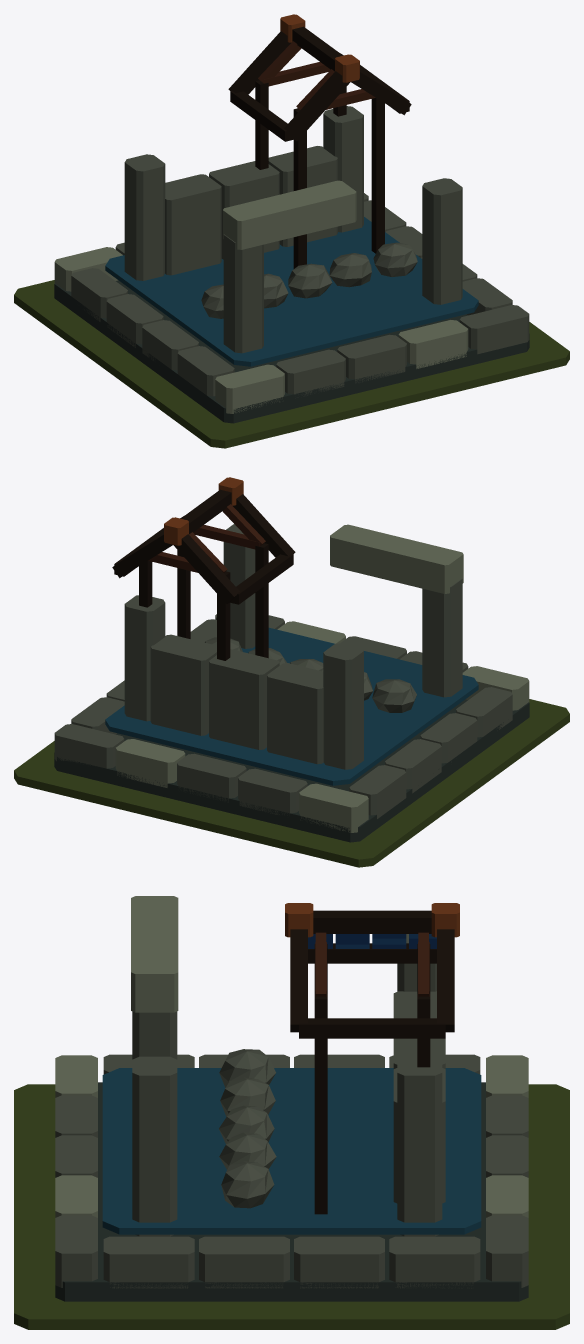
File: sunken-chapel_t4.glb
3 views of the same model, one above another, from view 1: azimuth 30°, elevation 25°; view 2: azimuth 150°, elevation 25°; view 3: azimuth 270°, elevation 25° (orthographic). The views are drawn at different scales.
Visible parts, largest first — view 1: MMR | sunken-chapel | T04 Architecture.001, MMR | sunken-chapel | Tier 04 Ground.001; view 2: MMR | sunken-chapel | T04 Architecture.001, MMR | sunken-chapel | Tier 04 Ground.001; view 3: MMR | sunken-chapel | T04 Architecture.001, MMR | sunken-chapel | Tier 04 Ground.001.
Part boxes in pixels (bbox=[...]): MMR | sunken-chapel | T04 Architecture.001: bbox=[54, 14, 529, 423]; MMR | sunken-chapel | Tier 04 Ground.001: bbox=[14, 280, 569, 448]; MMR | sunken-chapel | T04 Architecture.001: bbox=[54, 477, 529, 842]; MMR | sunken-chapel | Tier 04 Ground.001: bbox=[14, 699, 569, 867]; MMR | sunken-chapel | T04 Architecture.001: bbox=[55, 896, 528, 1301]; MMR | sunken-chapel | Tier 04 Ground.001: bbox=[14, 1084, 569, 1329].
Size of the model in its own units: 2.35 by 1.59 by 2.35.
Materials: 1 (1 with a texture image).
